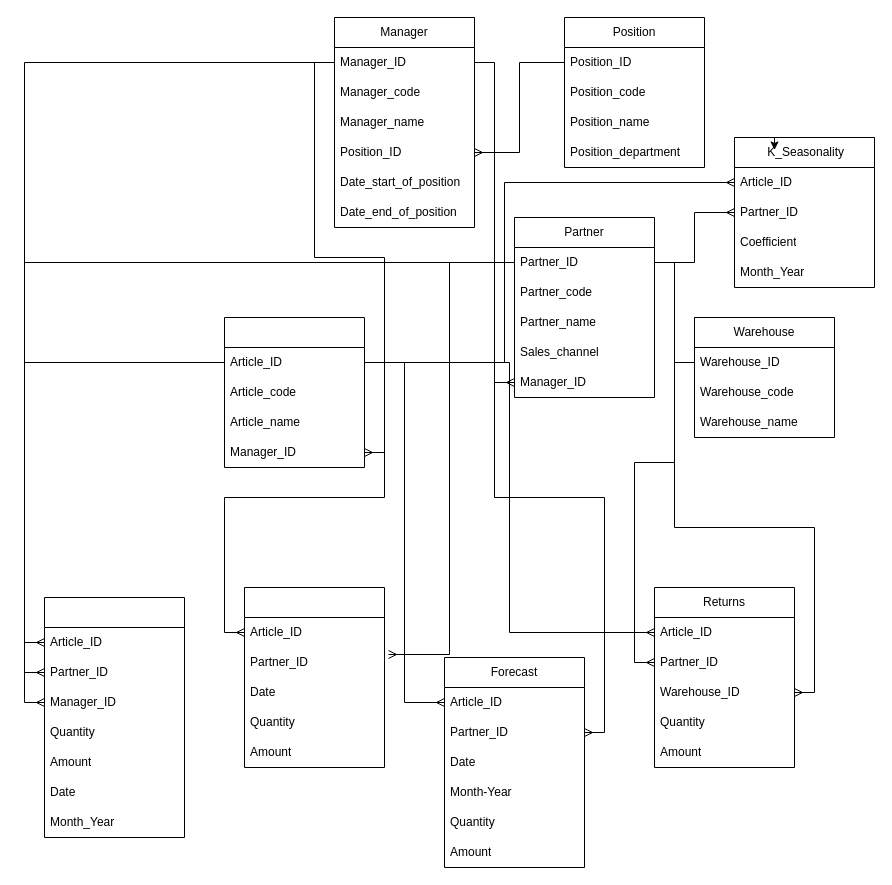
The diagram is 892 pixels wide and 885 high, and some of its shapes have lost their labels. The box of each missing label's shape, as (x1, y1, x2, y2) in pixels:
KPI: (44, 596, 184, 838)
Nomenclature: (224, 316, 364, 468)
Sales: (244, 586, 384, 768)
